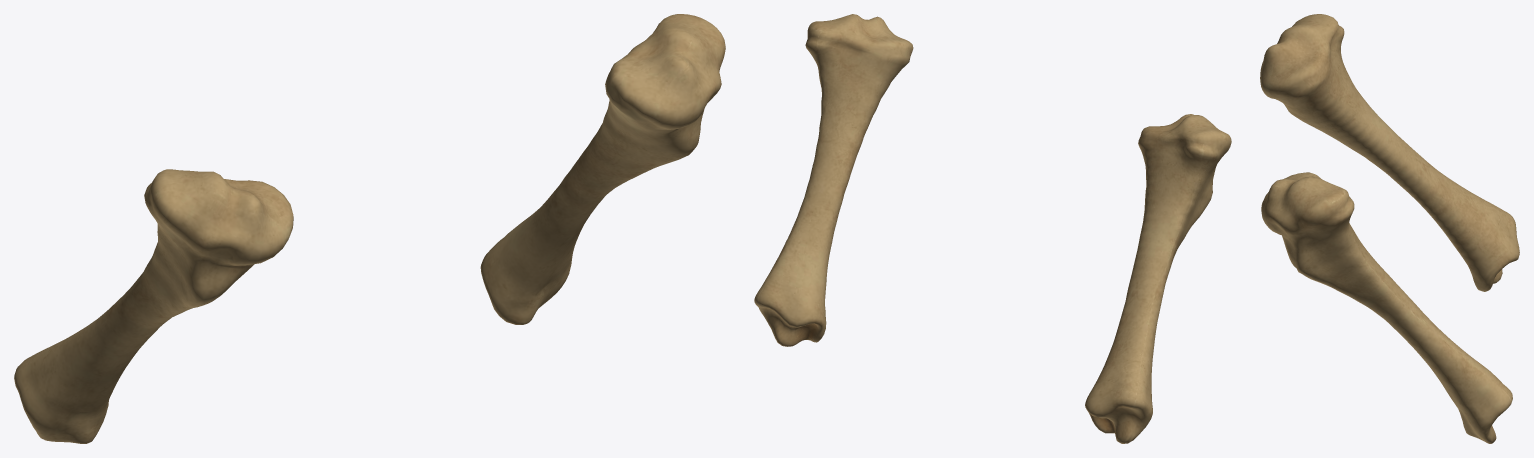
The model's file is Tibia.glb.
3 renders of one model, left to right at view 1: azimuth 30°, elevation 25°; view 2: azimuth 150°, elevation 25°; view 3: azimuth 270°, elevation 25°, orthographic. The views are drawn at different scales.
Parts seen in each view (by area): view 1: ZBrush_defualt_group.009; view 2: ZBrush_defualt_group.009; view 3: ZBrush_defualt_group.009.
Boxes of the visible parts, x1=… form: ZBrush_defualt_group.009: x1=14, y1=14, x2=725, y2=443; ZBrush_defualt_group.009: x1=754, y1=14, x2=1231, y2=443; ZBrush_defualt_group.009: x1=1260, y1=14, x2=1519, y2=443.
Size of the model in its own units: 353 by 220 by 179.
Materials: 1 (1 with a texture image).
